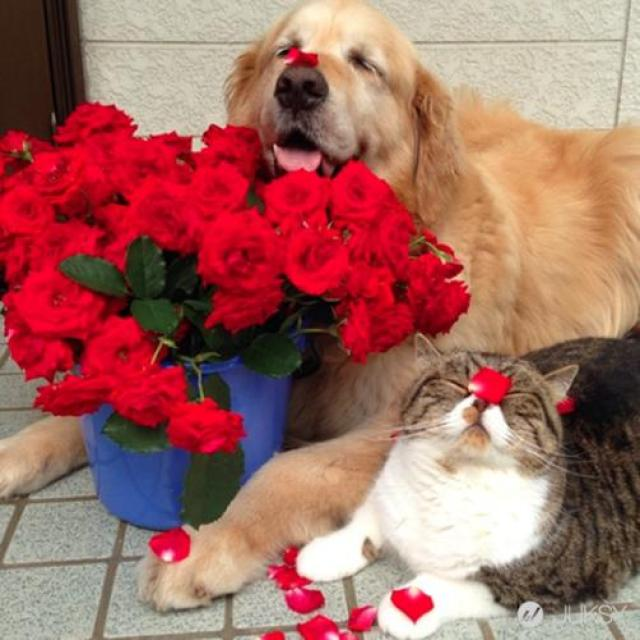cat: (365, 314, 601, 538)
dog: (199, 0, 457, 246)
